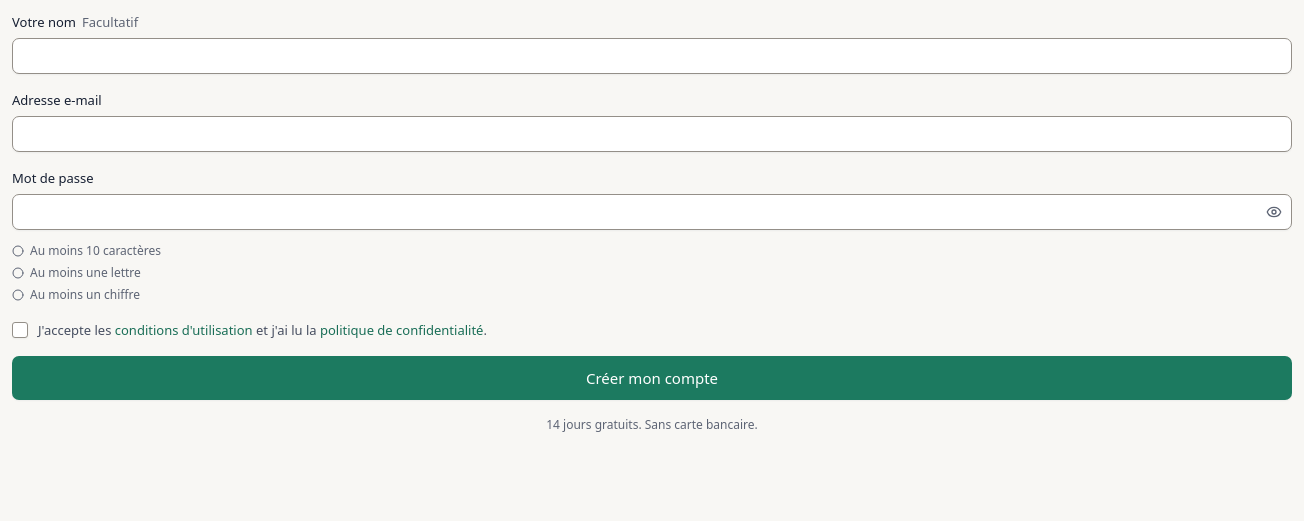
Test: sign-up field errors › clears each error once its field becomes valid
Click the button "Créer mon compte".
click(652, 378)  # box [12, 356, 1292, 400]
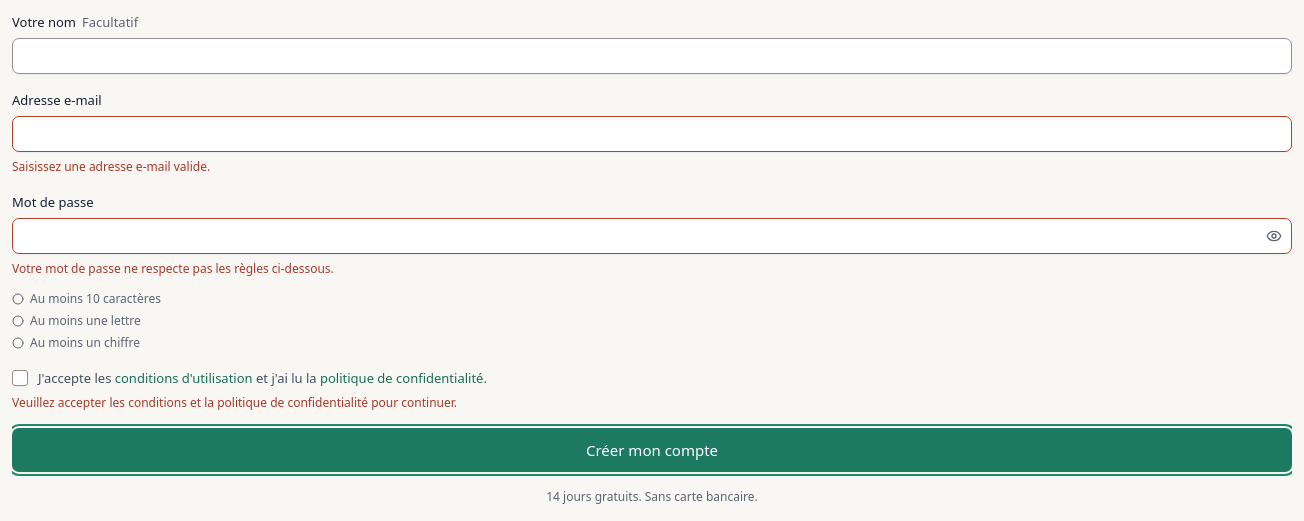
Check: the text "Saisissez une adresse e-mail valide." is shown, box [12, 158, 210, 175]
Check: the text "Votre mot de passe ne respecte pas les règles ci-dessous." is shown, box [12, 260, 334, 277]
Check: the text "Veuillez accepter les conditions et la politique de confidentialité pour continuer." is shown, box [12, 394, 457, 411]
Type "marie@" into the field labelled "Adresse e-mail".
click(652, 134); type("marie@")  # box [12, 116, 1292, 152]
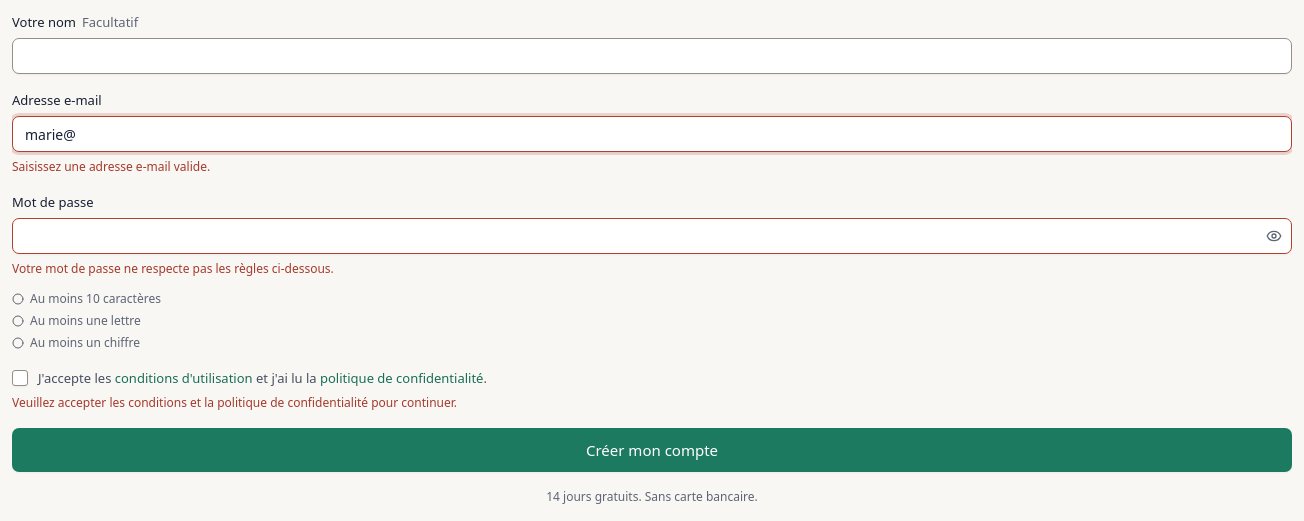
Check: the text "Saisissez une adresse e-mail valide." is shown, box [12, 158, 210, 175]
Type "exemple.fr" into the field labelled "Adresse e-mail".
click(652, 134); type("exemple.fr")  # box [12, 116, 1292, 152]
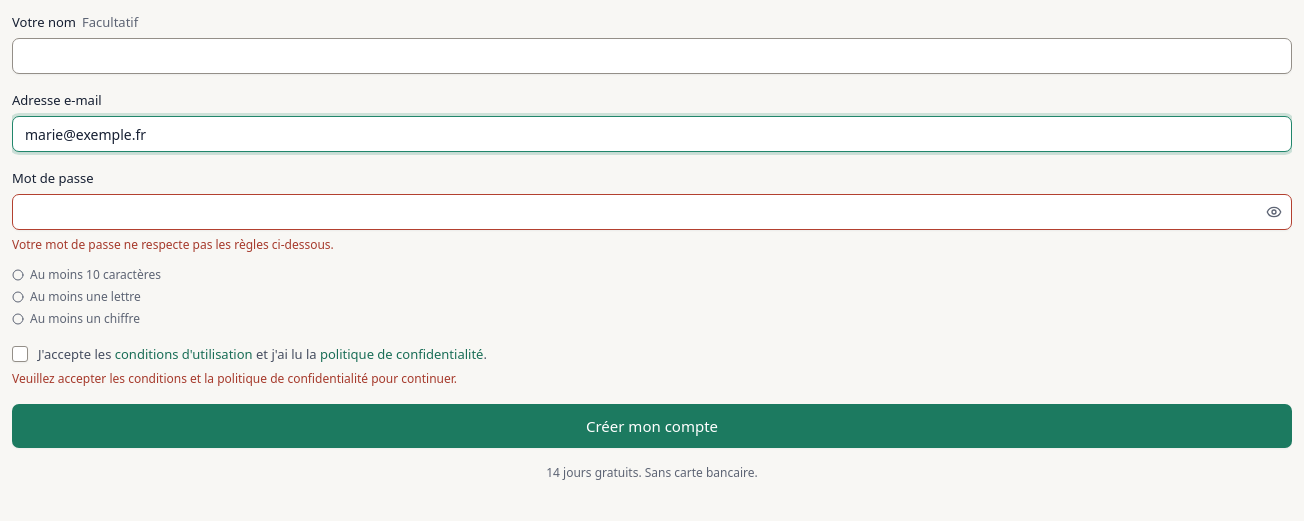
Check: the text "Saisissez une adresse e-mail valide." is gone
Type "motdepasse2026" into the password field labelled "Mot de passe".
click(652, 212); type("motdepasse2026")  # box [12, 194, 1292, 230]
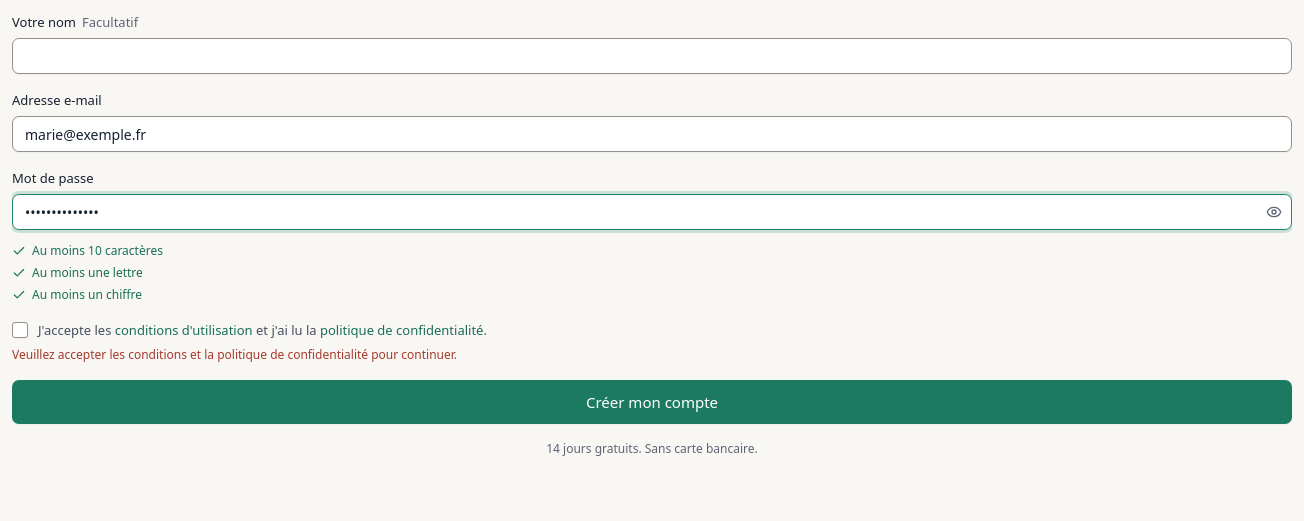
Check: the text "Votre mot de passe ne respecte pas les règles ci-dessous." is gone
Click the checkbox.
click(20, 330)  # box [12, 322, 28, 338]
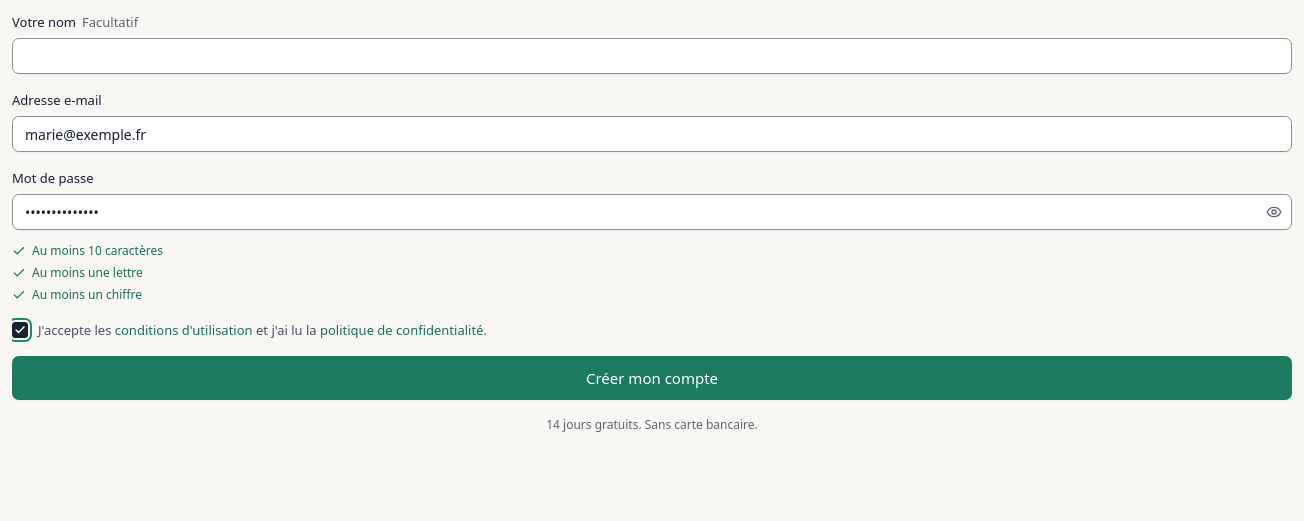
Check: the text "Veuillez accepter les conditions et la politique de confidentialité pour continuer." is gone
